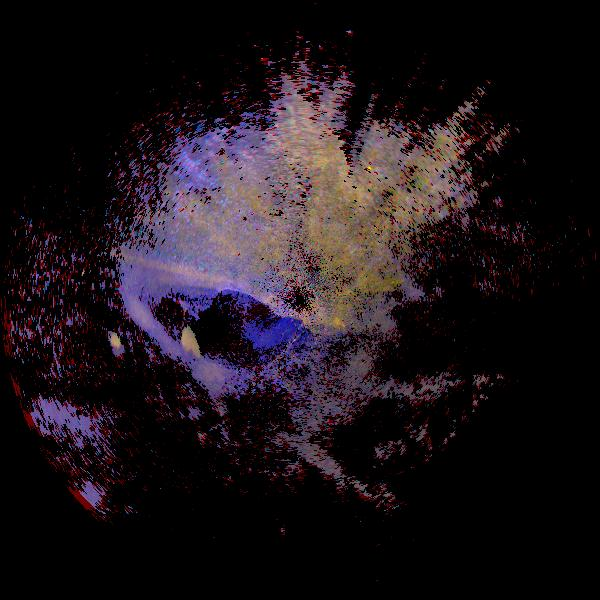roost: (61, 325, 139, 403), (136, 317, 214, 395)
